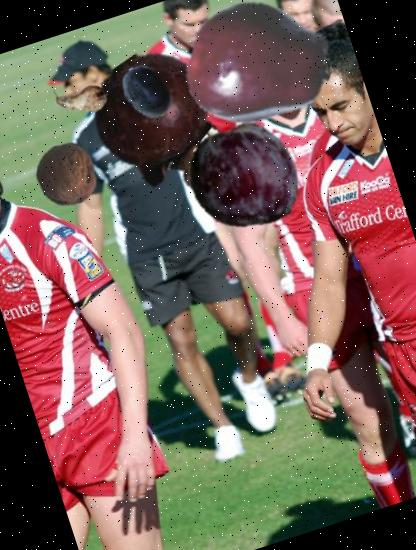Apple: (167, 0, 348, 156)
Blueberry: (110, 55, 182, 128)
Mangostan: (68, 32, 254, 218)
Pear: (48, 66, 116, 132)
Plum: (172, 105, 318, 250)
Walnut: (27, 134, 108, 215)
